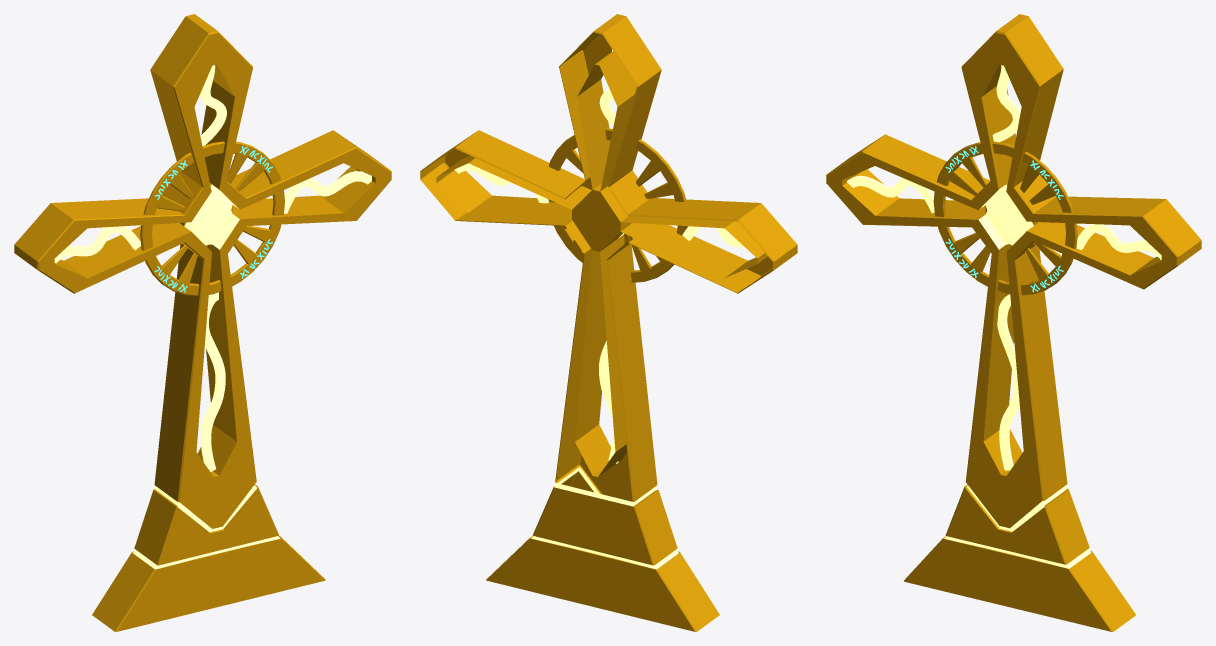
The model's file is Cruz-Iglesia_collision.fbx.
3 views of the same model, side by side, from view 1: azimuth 30°, elevation 25°; view 2: azimuth 150°, elevation 25°; view 3: azimuth 330°, elevation 25° (orthographic).
Visible parts, largest first — view 1: Cruz; view 2: Cruz; view 3: Cruz.
Part boxes in pixels (left/top/right/bottom): Cruz: left=14, top=14, right=391, bottom=631; Cruz: left=420, top=14, right=797, bottom=631; Cruz: left=826, top=14, right=1201, bottom=631.
Size of the model in its own units: 2778 by 4314 by 328.
